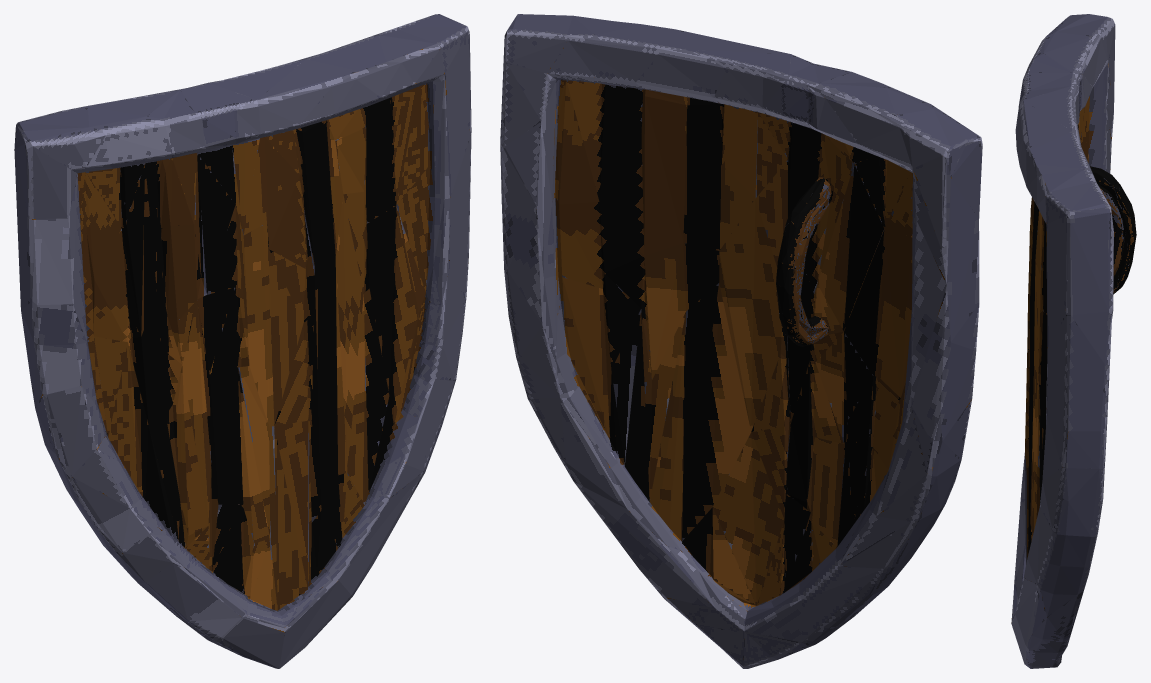
3 views of the same model, side by side, from view 1: azimuth 30°, elevation 25°; view 2: azimuth 150°, elevation 25°; view 3: azimuth 270°, elevation 25° (orthographic). The views are drawn at different scales.
Visible parts, largest first — view 1: OBJ03c; view 2: OBJ03c; view 3: OBJ03c.
Boxes of the visible parts, x1=… form: OBJ03c: x1=14, y1=14, x2=471, y2=668; OBJ03c: x1=500, y1=14, x2=982, y2=668; OBJ03c: x1=1011, y1=14, x2=1136, y2=668.
Size of the model in its own units: 0.2861 by 0.3579 by 0.0725.
Materials: 1 (1 with a texture image).
